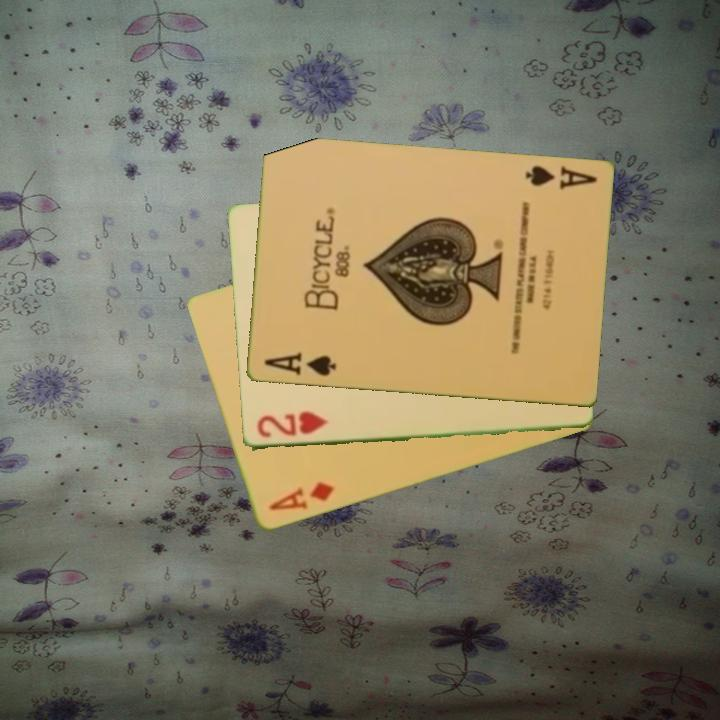2h: (253, 409, 330, 441)
Ad: (265, 478, 337, 514)
As: (260, 349, 339, 380), (521, 162, 600, 192)
